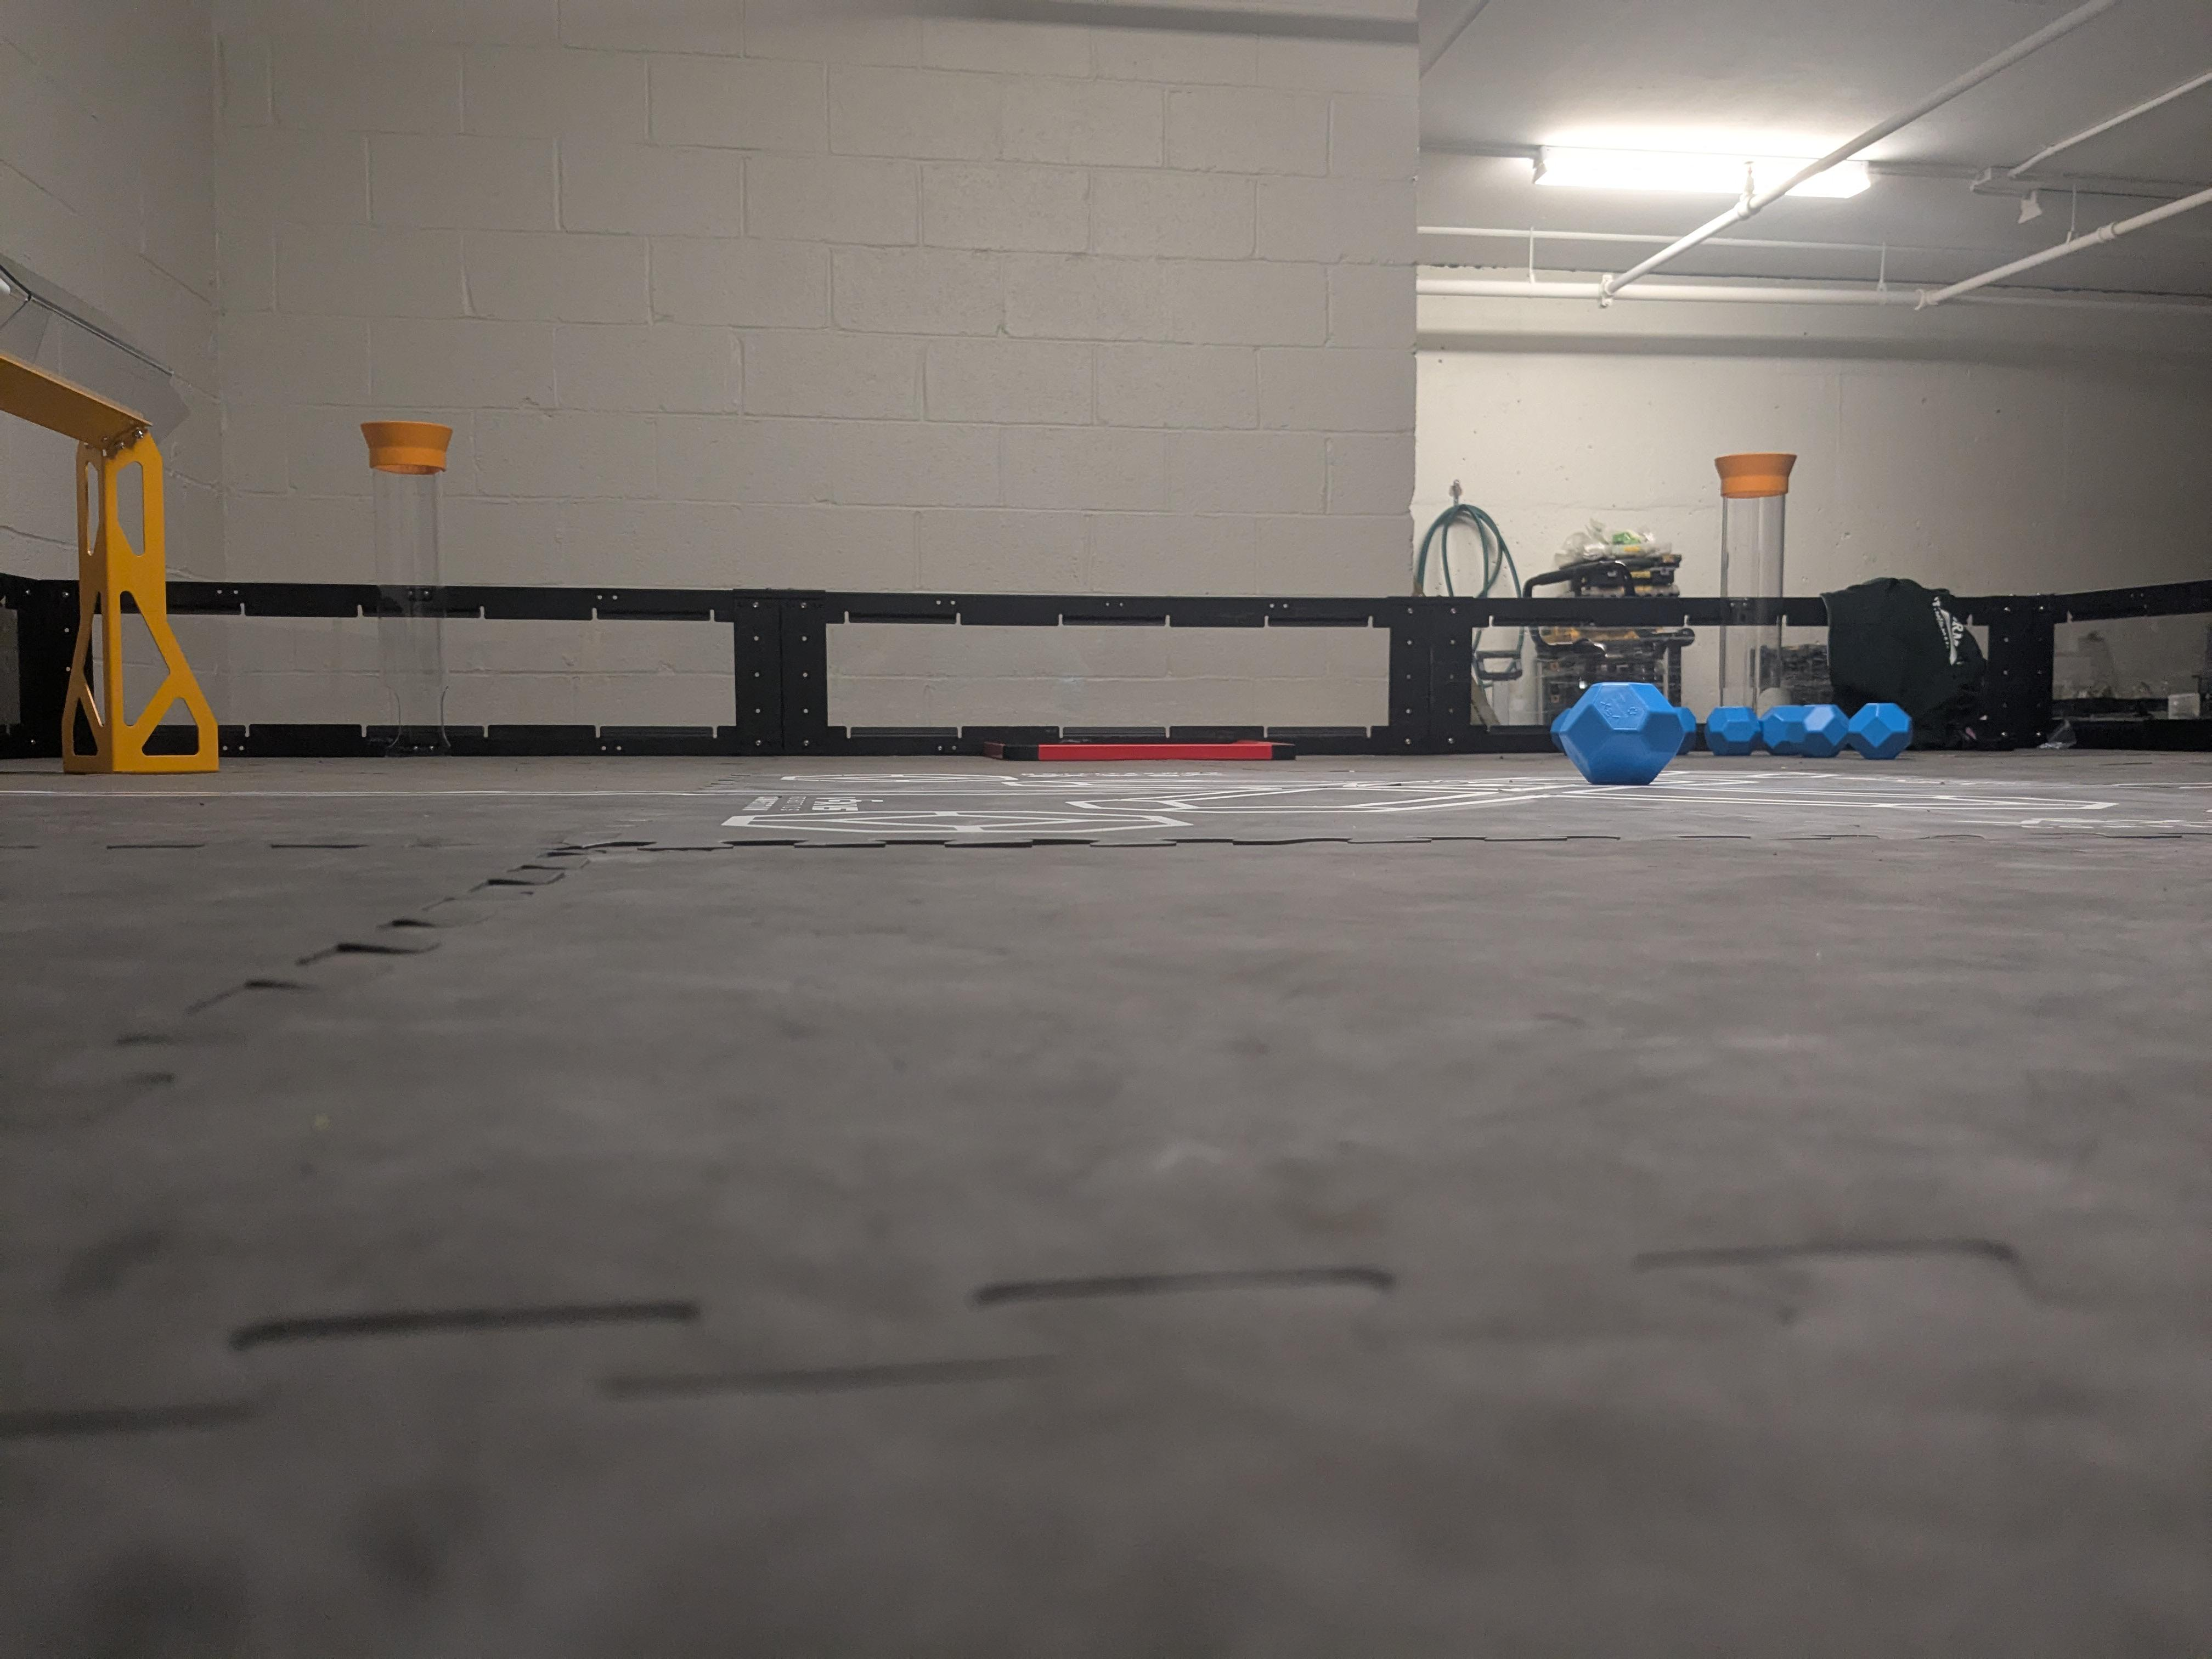Vex-Pieces-BLUE: (1552, 681, 1689, 784), (1846, 702, 1911, 758), (1705, 706, 1759, 755), (1801, 704, 1848, 756), (1761, 706, 1808, 755)
